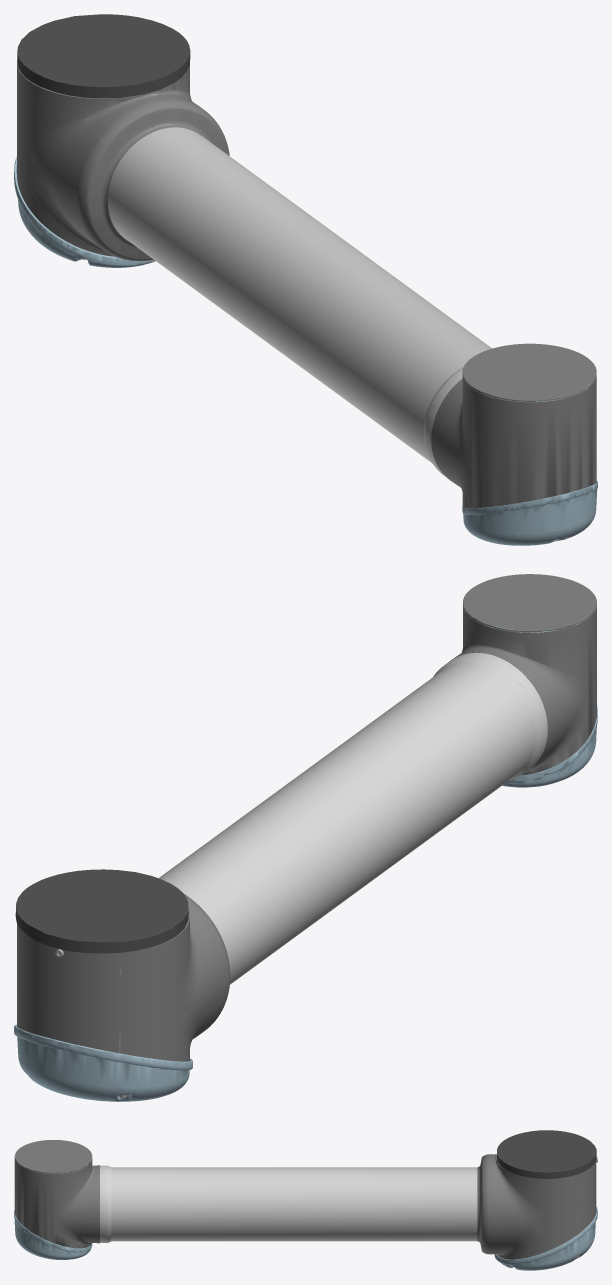
Rendered from forearm.obj.
The picture shows the model from 3 angles, top to bottom: view 1: azimuth 30°, elevation 25°; view 2: azimuth 150°, elevation 25°; view 3: azimuth 270°, elevation 25°; orthographic projection. The views are drawn at different scales.
Parts seen in each view (by area): view 1: forearm; view 2: forearm; view 3: forearm.
Part boxes in pixels (x1,y1,x2,y2): forearm: (14,14,597,545); forearm: (14,574,597,1101); forearm: (14,1130,597,1270).
Size of the model in its own units: 0.12 by 0.1362 by 0.6775.
1 material, 1 textured.
